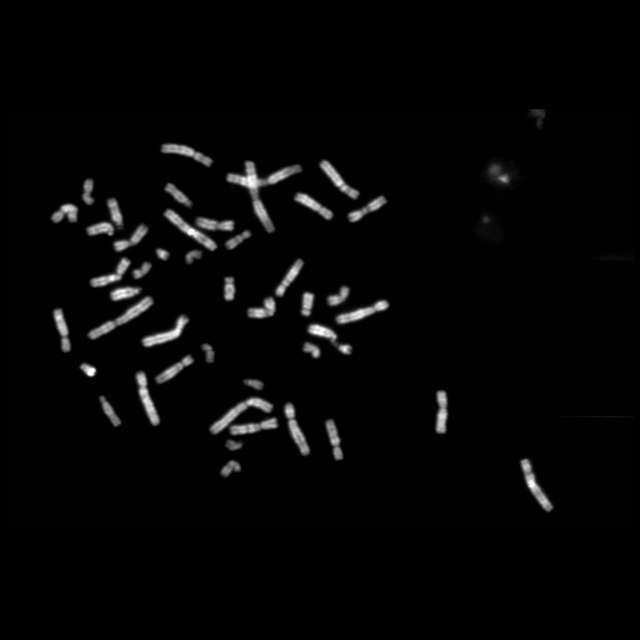chromosome: (88, 296, 154, 338), (210, 398, 272, 434), (244, 160, 274, 232), (163, 210, 217, 250), (518, 456, 554, 512), (225, 166, 302, 188), (320, 160, 360, 200), (142, 314, 188, 348), (308, 324, 352, 354), (336, 300, 389, 324), (284, 403, 308, 455), (91, 256, 129, 288), (137, 372, 159, 426), (160, 144, 212, 166), (156, 353, 194, 382), (293, 193, 333, 220), (276, 259, 304, 297), (349, 196, 387, 222), (114, 223, 148, 251), (230, 418, 278, 436), (326, 418, 344, 460), (54, 308, 71, 352), (164, 182, 192, 208), (100, 395, 122, 427), (196, 216, 234, 232), (484, 165, 510, 188), (248, 298, 276, 318), (50, 204, 78, 223), (436, 390, 448, 434), (226, 230, 252, 250), (109, 196, 124, 228), (86, 222, 114, 238), (110, 286, 140, 300), (328, 286, 350, 304), (221, 460, 241, 478), (244, 376, 266, 392), (81, 180, 95, 204), (133, 262, 151, 278), (302, 292, 314, 316), (201, 344, 215, 364), (224, 275, 234, 301), (185, 250, 201, 266), (304, 342, 320, 358), (224, 438, 242, 450), (155, 248, 170, 262), (80, 363, 95, 377)
